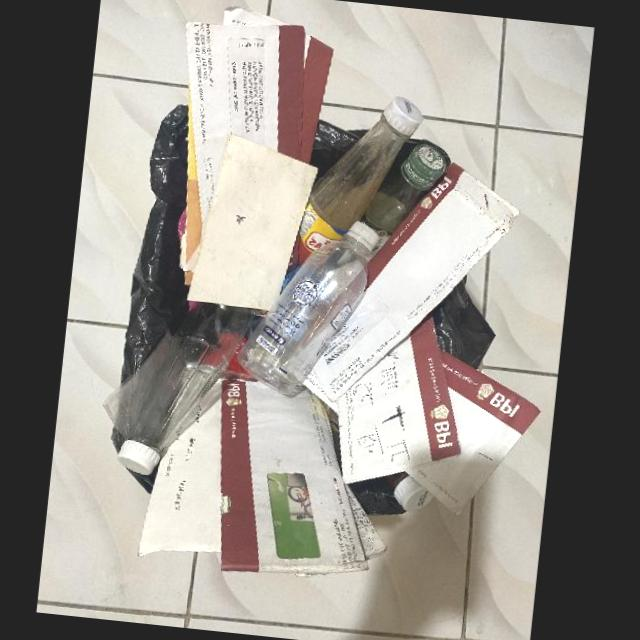carton: (185, 134, 317, 311)
chai_nhua_pet: (235, 221, 380, 394)
chai_thuy_tinh: (116, 302, 255, 475), (298, 96, 423, 266), (360, 143, 446, 250)
giay: (297, 162, 520, 401), (219, 378, 368, 573), (184, 22, 305, 233), (404, 348, 540, 515), (337, 312, 461, 484)
